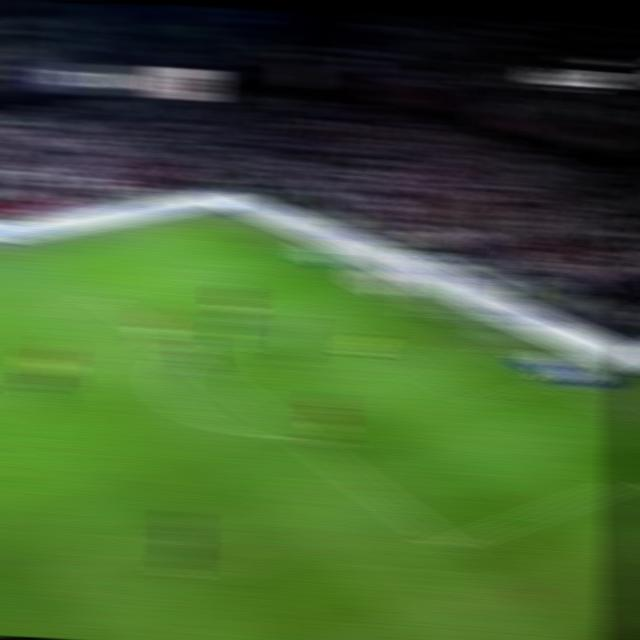bigarea_bottom_inner: (427, 526, 470, 559)
bigarea_top_inner: (84, 283, 121, 309)
bigarea_top_outter: (278, 247, 311, 264)
bottom_arc_area_intersection: (282, 424, 319, 450)
corner: (196, 209, 231, 223)
smallarea_bottom_inner: (463, 388, 498, 413)
smallarea_bottom_outter: (533, 373, 568, 389)
smallarea_top_inner: (297, 301, 329, 318)
smallarea_top_outter: (355, 285, 390, 303)
top_arc_area_intersection: (163, 339, 198, 363)
